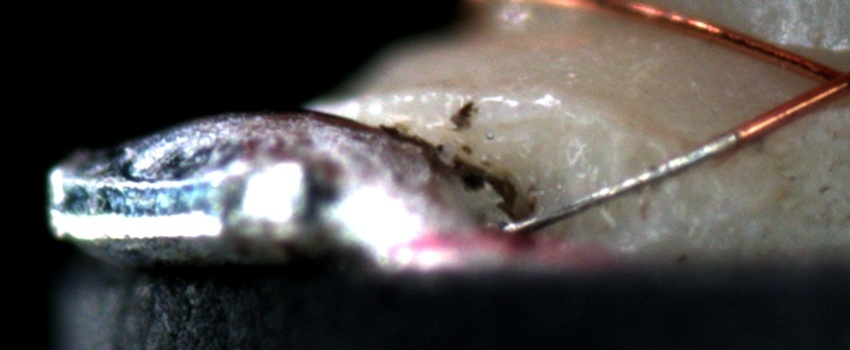CL: (786, 50, 846, 107)
TS: (502, 131, 742, 236)
